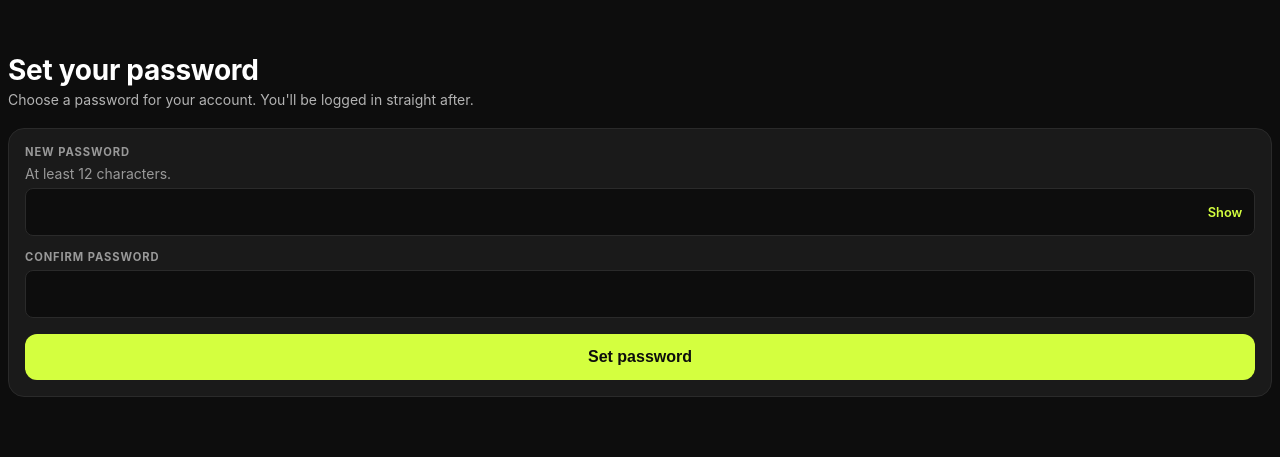
it: SetPassword › shows the API's generic message for an expired, used or unknown token
Type "a long enough password" into the password field labelled "New password" at (640, 212), box [25,188,1255,236]
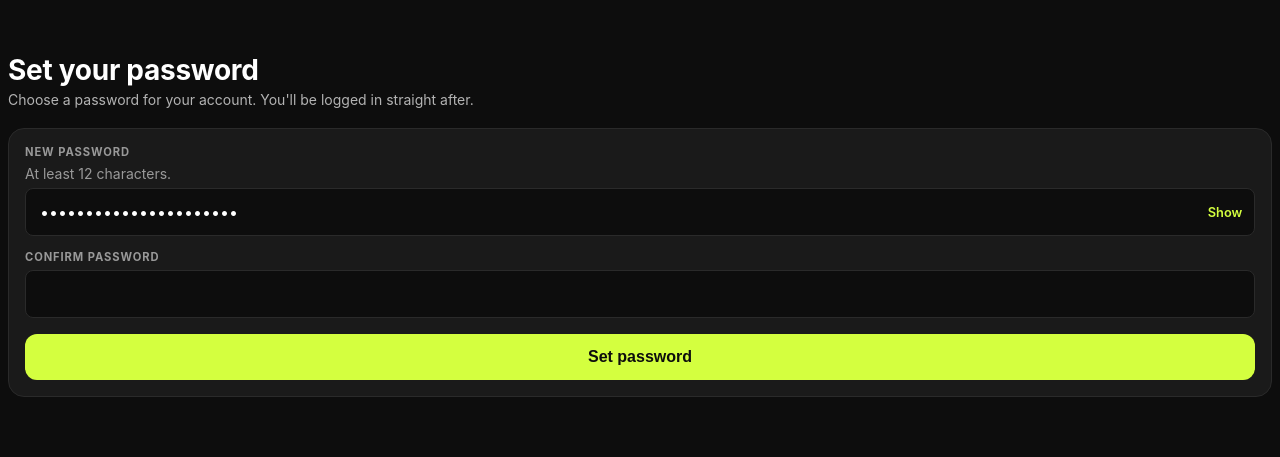
Type "a long enough password" into the password field labelled "Confirm password" at (640, 294), box [25,270,1255,318]
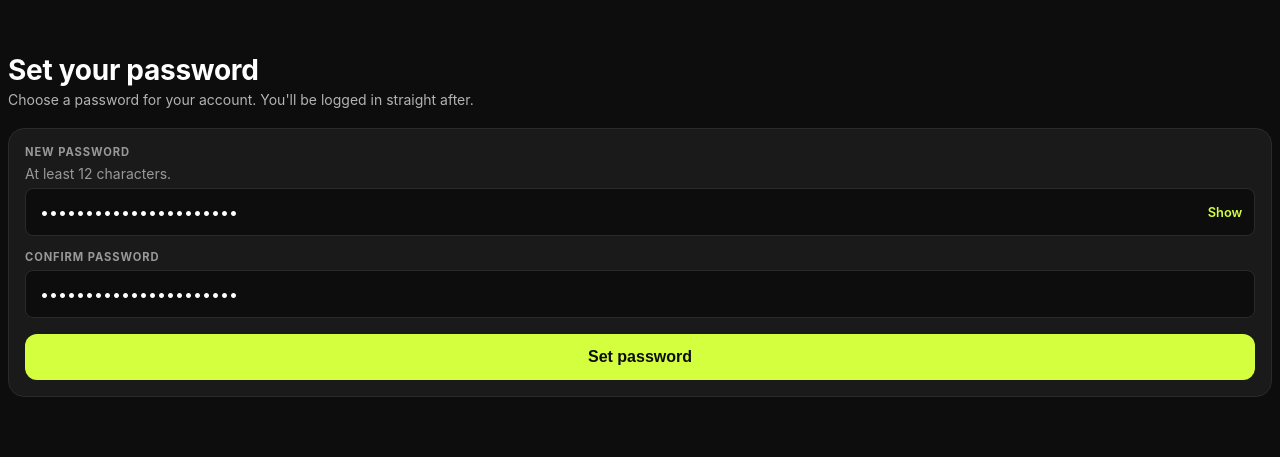
Click the button "Set password" at (640, 357), box [25,334,1255,380]
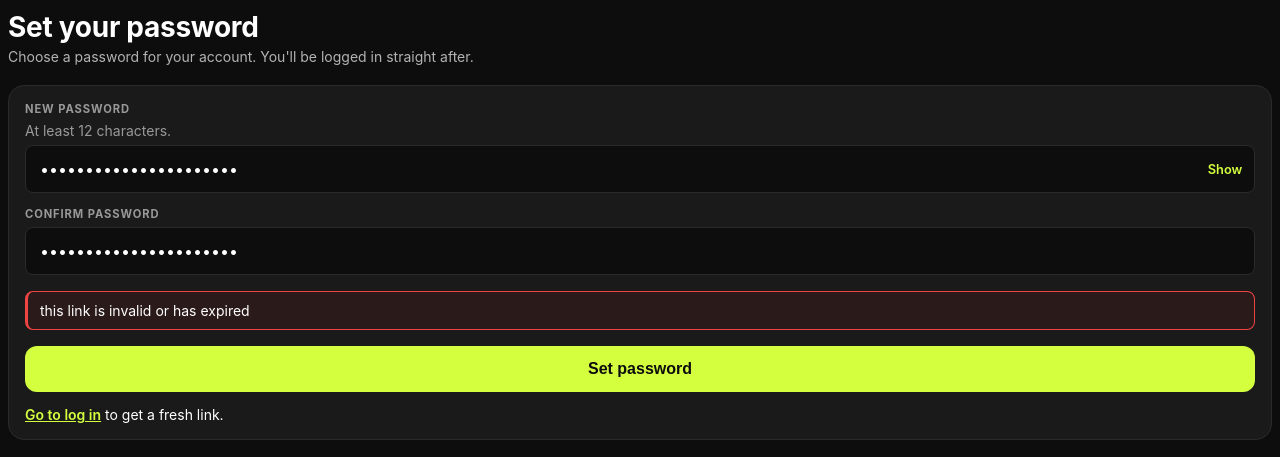
Check: the message reads "this link is invalid or has expired", box [40,302,250,319]
Check: the link "Go to log in" is shown, box [25,406,101,423]
